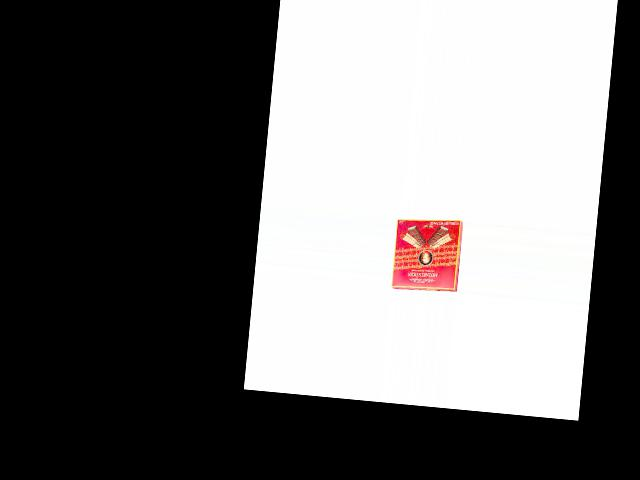chocolate: (389, 212, 464, 293)
